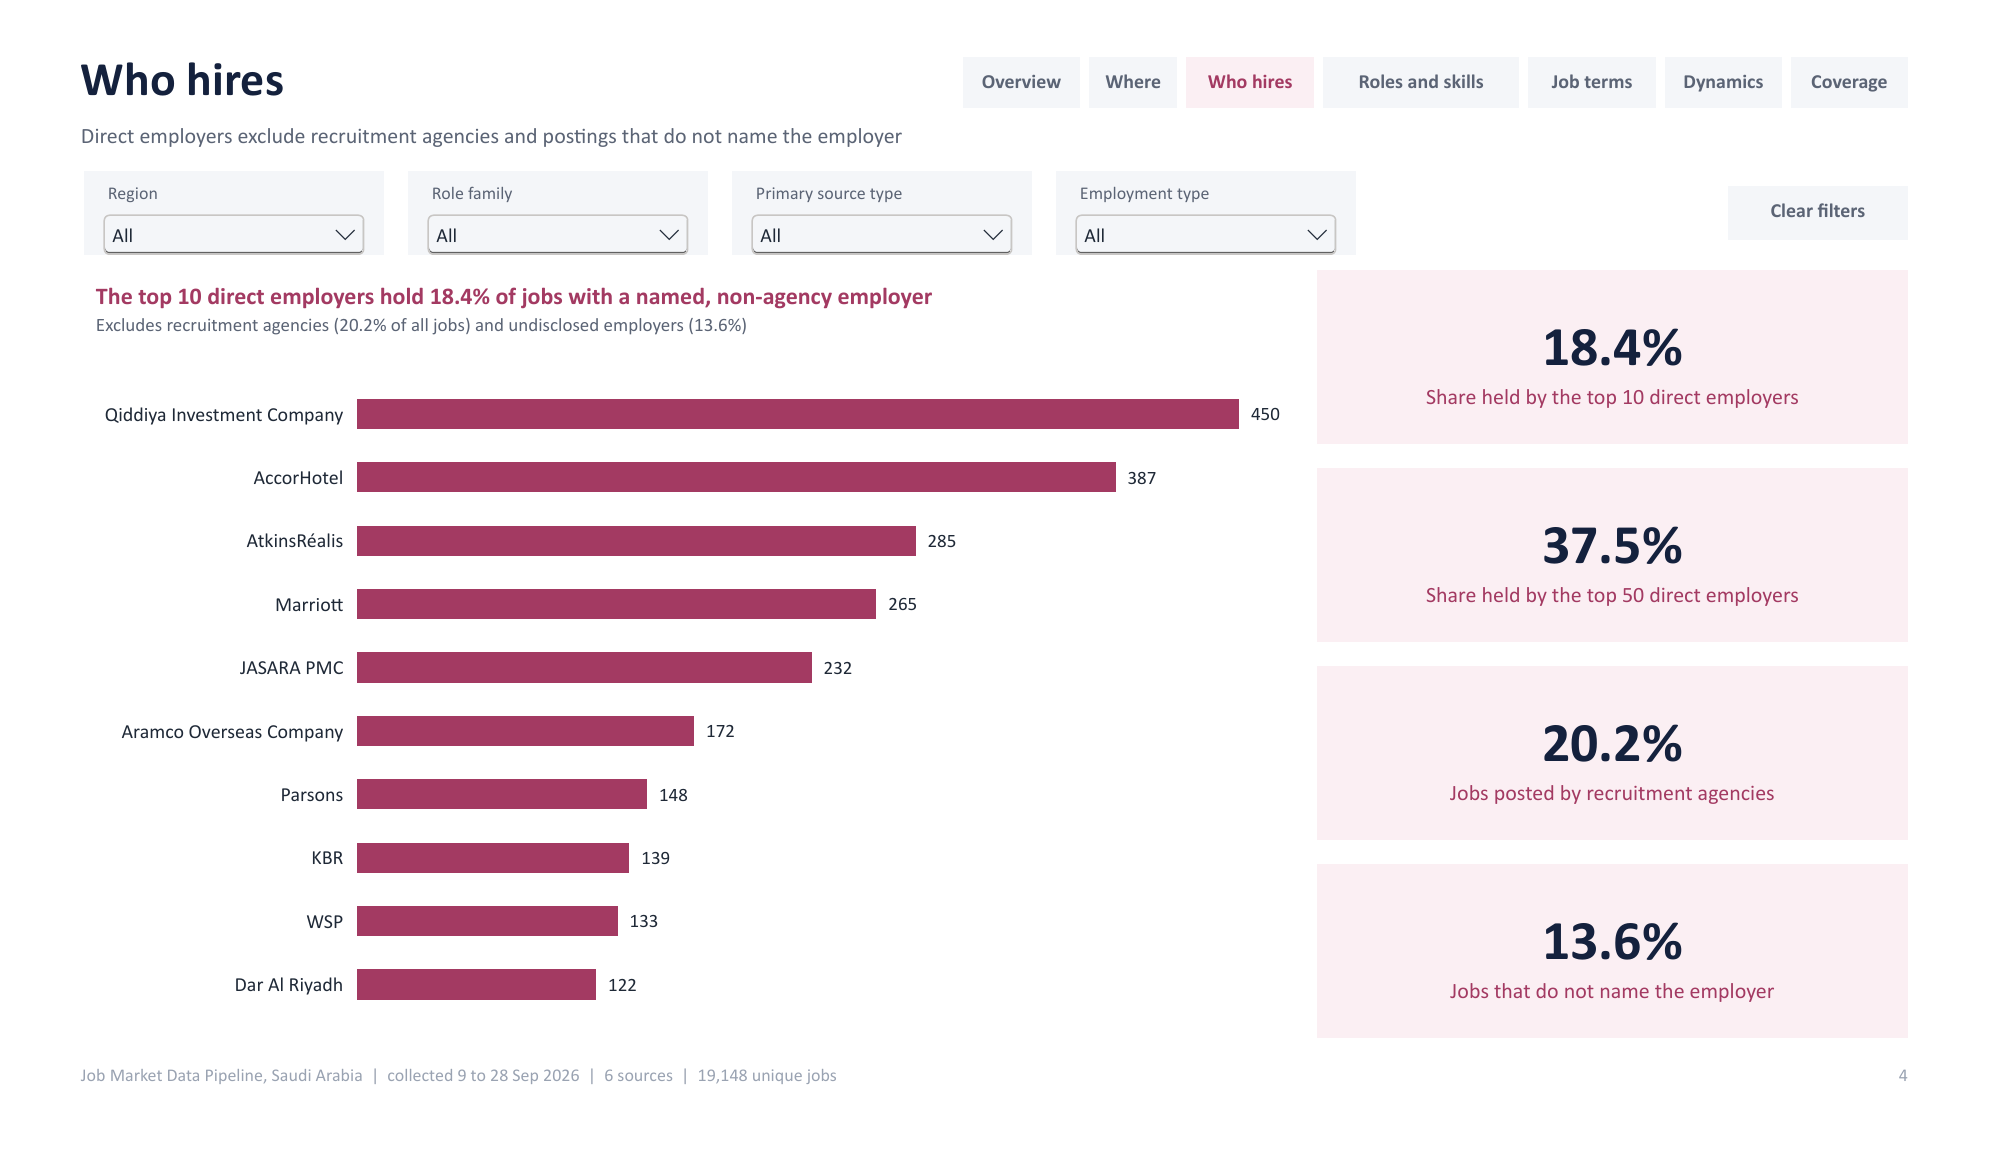

Layout of this report page (visuals, bound fields, positions):
{"tool":"powerbi","page":{"name":"Who hires","canvas":[1280,720],"ordinal":3},"visuals":[{"type":"textbox","box":[22,2,660,60],"z":1000},{"type":"textbox","box":[22,50,760,36],"z":1100},{"type":"textbox","box":[618,14,78,34],"z":1200},{"type":"actionButton","box":[618,14,78,34],"z":1300},{"type":"textbox","box":[702,14,59,34],"z":1400},{"type":"actionButton","box":[702,14,59,34],"z":1500},{"type":"textbox","box":[767,14,85,34],"z":1600},{"type":"textbox","box":[858,14,131,34],"z":1700},{"type":"actionButton","box":[858,14,131,34],"z":1800},{"type":"textbox","box":[995,14,85,34],"z":1900},{"type":"actionButton","box":[995,14,85,34],"z":2000},{"type":"textbox","box":[1086,14,78,34],"z":2100},{"type":"actionButton","box":[1086,14,78,34],"z":2200},{"type":"textbox","box":[1170,14,78,34],"z":2300},{"type":"actionButton","box":[1170,14,78,34],"z":2400},{"type":"slicer","fields":{"Values":["DIM_LOCATION.REGION"]},"box":[32,90,200,56],"z":2500},{"type":"slicer","fields":{"Values":["DIM_ROLE.ROLE_FAMILY"]},"box":[248,90,200,56],"z":2600},{"type":"slicer","fields":{"Values":["DIM_SOURCE.SOURCE_TYPE"]},"box":[464,90,200,56],"z":2700},{"type":"slicer","fields":{"Values":["DIM_JOB_ATTRIBUTES.EMPLOYMENT_TYPE"]},"box":[680,90,200,56],"z":2800},{"type":"textbox","box":[1128,100,120,36],"z":2900},{"type":"actionButton","box":[1128,100,120,36],"z":3000},{"type":"textbox","box":[22,678,940,38],"z":3100},{"type":"textbox","box":[1160,678,96,38],"z":3200},{"type":"clusteredBarChart","title":"The top 10 direct employers hold 18.4% of jobs with a named, non-agency employer","fields":{"Category":["DIM_COMPANY.COMPANY_NAME"],"Y":["_Measures.Direct Employer Jobs"]},"box":[32,156,806,512],"z":3300},{"type":"card","fields":{"Values":["_Measures.Top 10 Employers Share %"]},"box":[854,156,394,116],"z":3400},{"type":"card","fields":{"Values":["_Measures.Top 50 Employers Share %"]},"box":[854,288,394,116],"z":3500},{"type":"card","fields":{"Values":["_Measures.Agency Jobs %"]},"box":[854,420,394,116],"z":3600},{"type":"card","fields":{"Values":["_Measures.Undisclosed Employer %"]},"box":[854,552,394,116],"z":3700}]}

Visuals, with their boxes in screenshot pixels (x1, y1, x2, y2), scaled from the page's 1280x720 canvas onto the 1992x1152 screenshot:
textbox: BBox(34, 3, 1061, 99)
textbox: BBox(34, 80, 1217, 138)
textbox: BBox(962, 22, 1083, 77)
actionButton: BBox(962, 22, 1083, 77)
textbox: BBox(1092, 22, 1184, 77)
actionButton: BBox(1092, 22, 1184, 77)
textbox: BBox(1194, 22, 1326, 77)
textbox: BBox(1335, 22, 1539, 77)
actionButton: BBox(1335, 22, 1539, 77)
textbox: BBox(1548, 22, 1681, 77)
actionButton: BBox(1548, 22, 1681, 77)
textbox: BBox(1690, 22, 1811, 77)
actionButton: BBox(1690, 22, 1811, 77)
textbox: BBox(1821, 22, 1942, 77)
actionButton: BBox(1821, 22, 1942, 77)
slicer - DIM_LOCATION.REGION: BBox(50, 144, 361, 234)
slicer - DIM_ROLE.ROLE_FAMILY: BBox(386, 144, 697, 234)
slicer - DIM_SOURCE.SOURCE_TYPE: BBox(722, 144, 1033, 234)
slicer - DIM_JOB_ATTRIBUTES.EMPLOYMENT_TYPE: BBox(1058, 144, 1370, 234)
textbox: BBox(1755, 160, 1942, 218)
actionButton: BBox(1755, 160, 1942, 218)
textbox: BBox(34, 1085, 1497, 1146)
textbox: BBox(1805, 1085, 1955, 1146)
"The top 10 direct employers hold 18.4% of jobs with a named, non-agency employer" clusteredBarChart: BBox(50, 250, 1304, 1069)
card - _Measures.Top 10 Employers Share %: BBox(1329, 250, 1942, 435)
card - _Measures.Top 50 Employers Share %: BBox(1329, 461, 1942, 646)
card - _Measures.Agency Jobs %: BBox(1329, 672, 1942, 858)
card - _Measures.Undisclosed Employer %: BBox(1329, 883, 1942, 1069)
